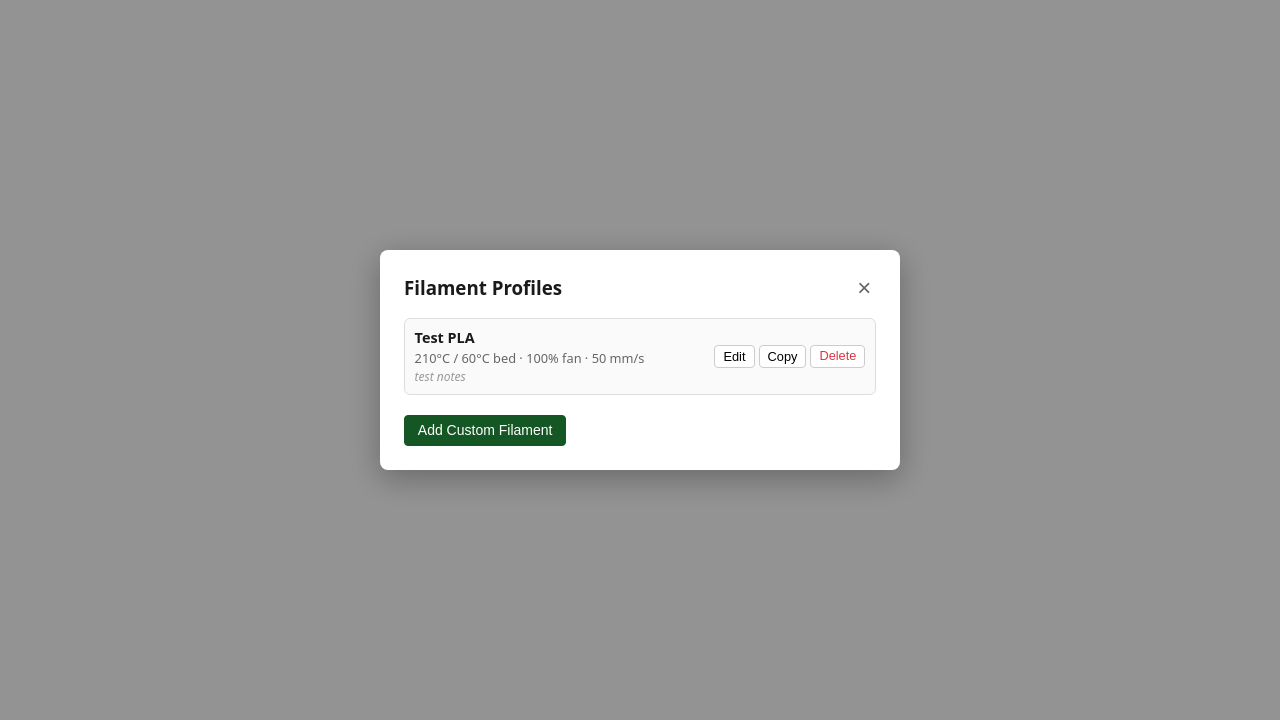
it: FilamentManager › edit form — advanced fields › flow ratio slider renders with correct value
The width and height of the screenshot is (1280, 720).
Click the button "Edit". click: [735, 357]
box: [714,345,755,368]
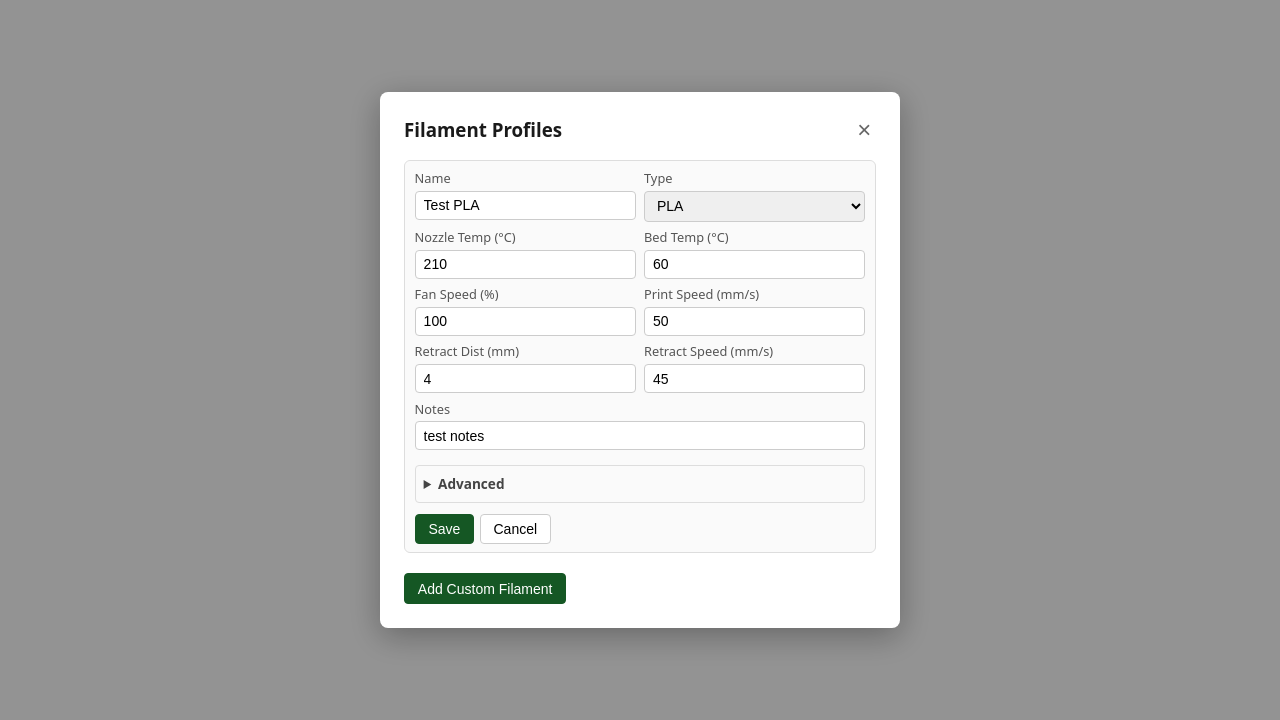
Click the heading "Advanced". click: [471, 483]
box: [438,474,504,493]
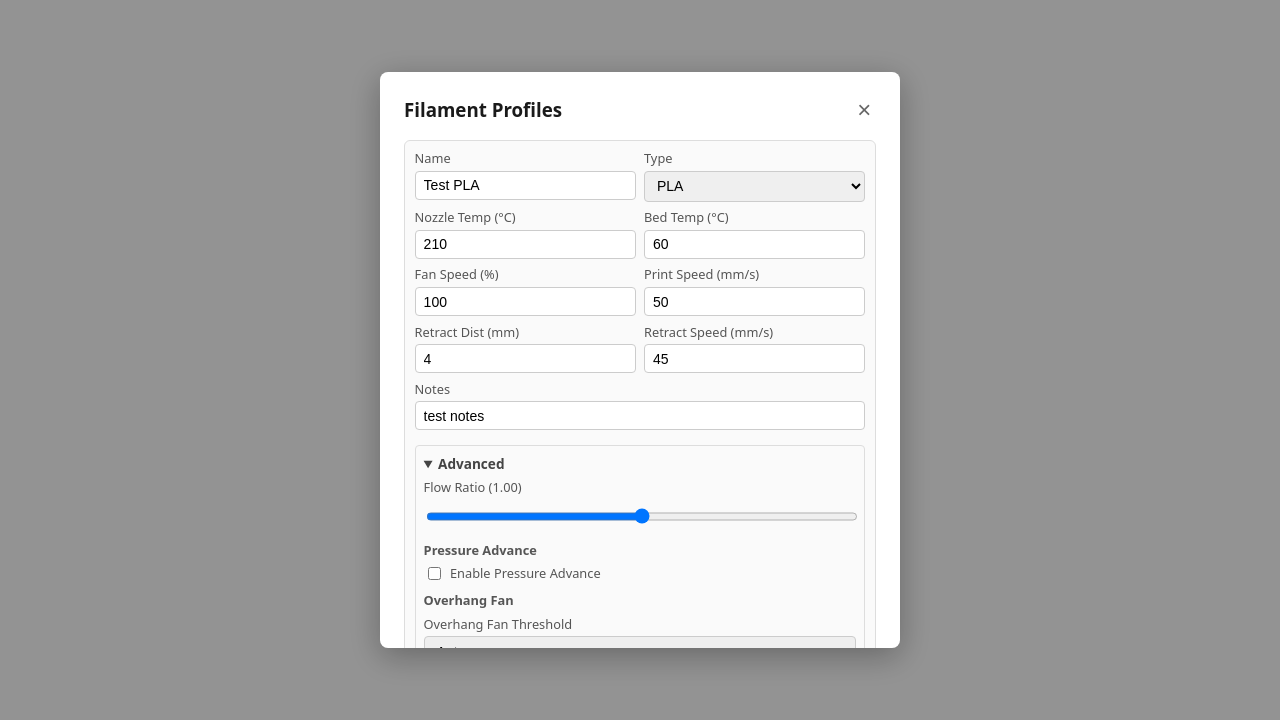
expect the slider labelled "Flow Ratio (1.00)" holds "1": met, box [426,502,858,531]
